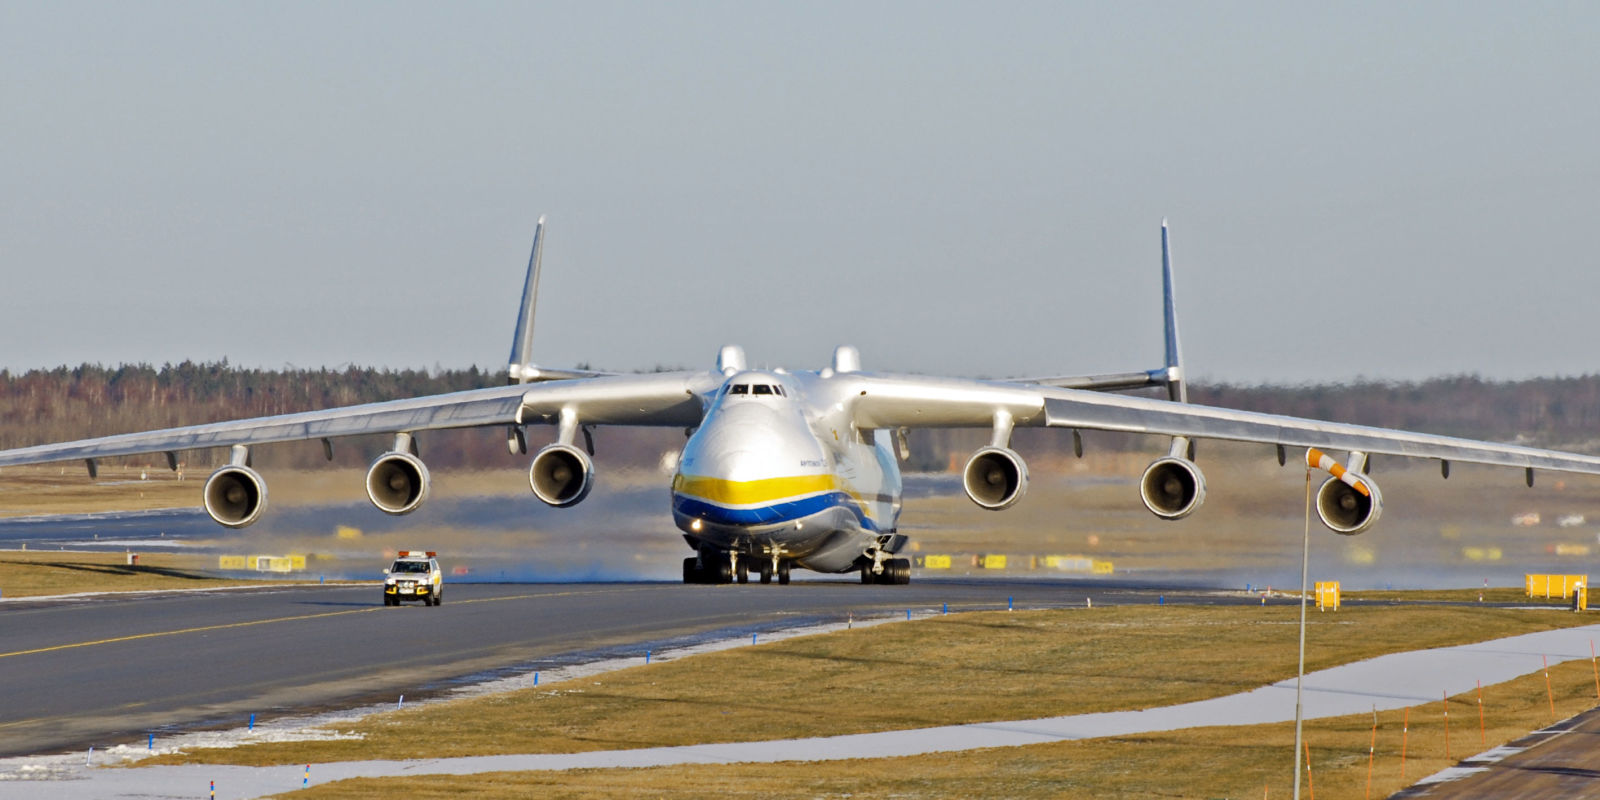Aeronef_commercial: (1, 204, 1600, 641)
